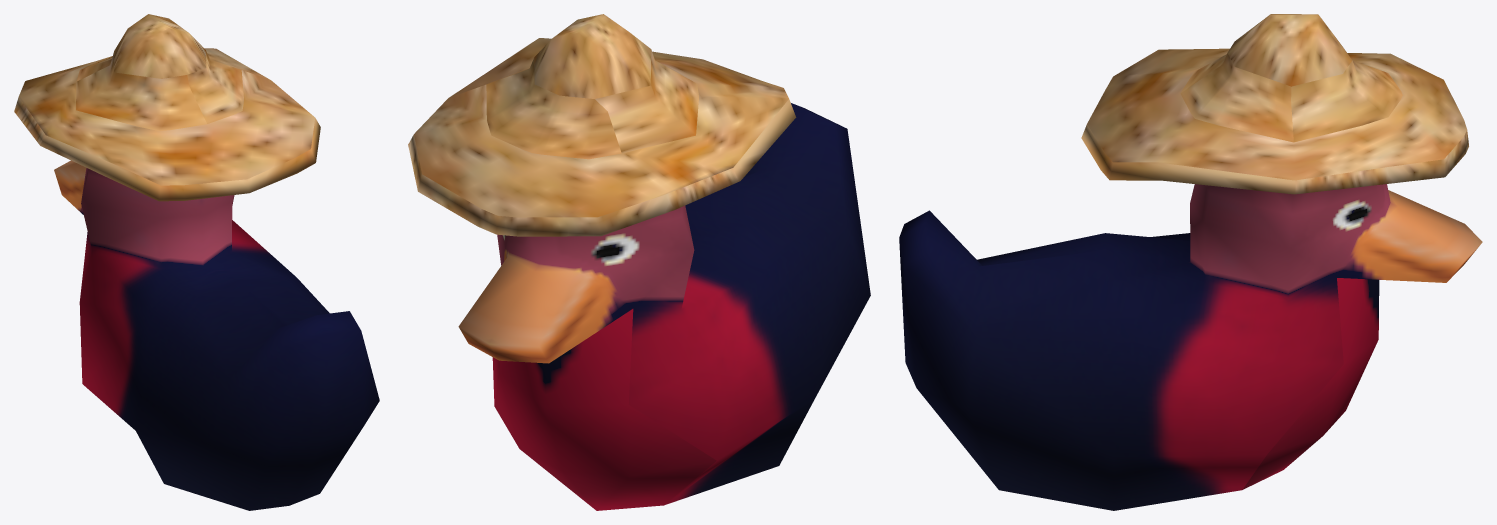
The model's file is duck_duke.fbx.
3 views of the same model, side by side, from view 1: azimuth 30°, elevation 25°; view 2: azimuth 150°, elevation 25°; view 3: azimuth 270°, elevation 25° (orthographic). The views are drawn at different scales.
Parts seen in each view (by area): view 1: duke; view 2: duke; view 3: duke.
Boxes of the visible parts, x1,y1,x2,y2 form: duke: (14,14,379,510); duke: (408,14,870,510); duke: (899,14,1482,510).
Size of the model in its own units: 0.1116 by 0.1751 by 0.2035.
